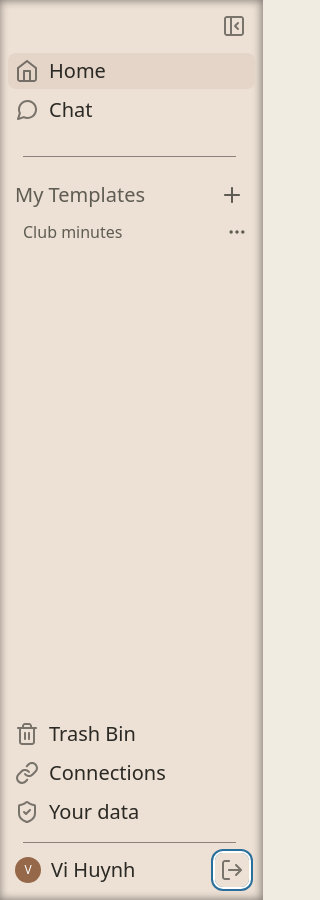
Test: AppSidebar › the account row › keeps focus on Sign out while the request is in flight and after it is refused, instead of dropping it
What coordinates should you click on to do the following:
click the button with class "sidebar__sign-out"
I would click on:
 (232, 870)
Its box is [214,853,248,887].
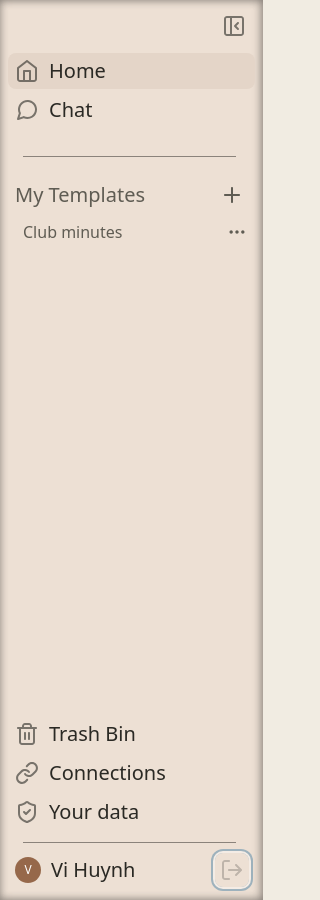
Expected: the button with class "sidebar__sign-out" is enabled
A second press while the first is still in flight asks nothing twice.
What coordinates should you click on to do the following:
click the button with class "sidebar__sign-out"
I would click on:
 (232, 870)
Its box is [214,853,248,887].
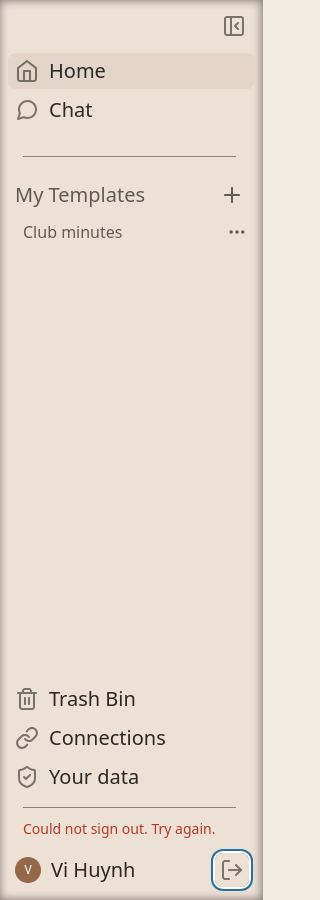
Expected: the message with class "sidebar__error" reads "Could not sign out. Try again.", [23,819,215,838]
